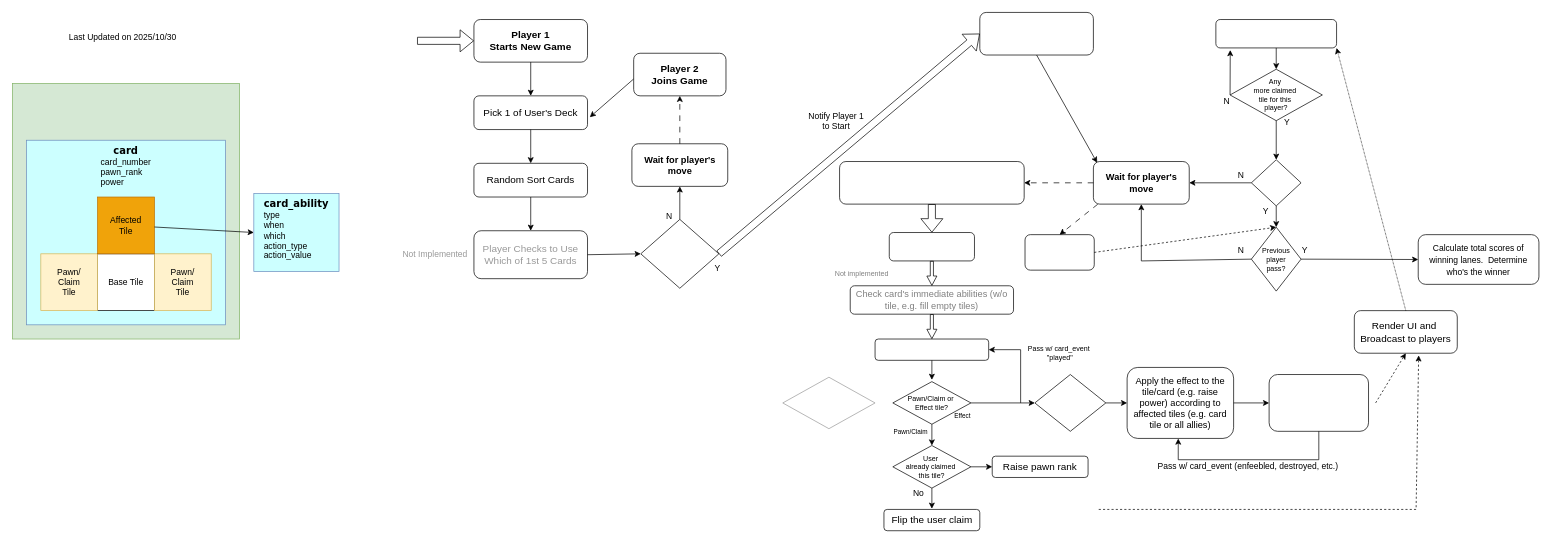
Some shapes in this 1551 by 543 pixel diagram are drawn without their labels. The shapes that lost their labels are listed below. From the top down, each one's box as (x1, y1, x2, y2) in pixels, then its label:
(979, 12, 1093, 55): Start Playing
(1215, 19, 1337, 48): Switch to Next Player
(839, 161, 1024, 204): Play: placing a card at legit tile
(1251, 159, 1301, 206): Player pass?
(12, 83, 240, 339): game_board_tile card_number pawn_rank power
(640, 219, 719, 288): Both players Joined?
(889, 232, 974, 261): Set current card
(1024, 234, 1094, 270): Play: Pass
(874, 338, 989, 360): Check card tiles
(782, 377, 875, 429): Any replacement card left for this player?
(1034, 374, 1106, 431): card_event matches "when" condition?
(1268, 374, 1369, 431): Notify the tile/card the effect, and check for after calls by card abilities
